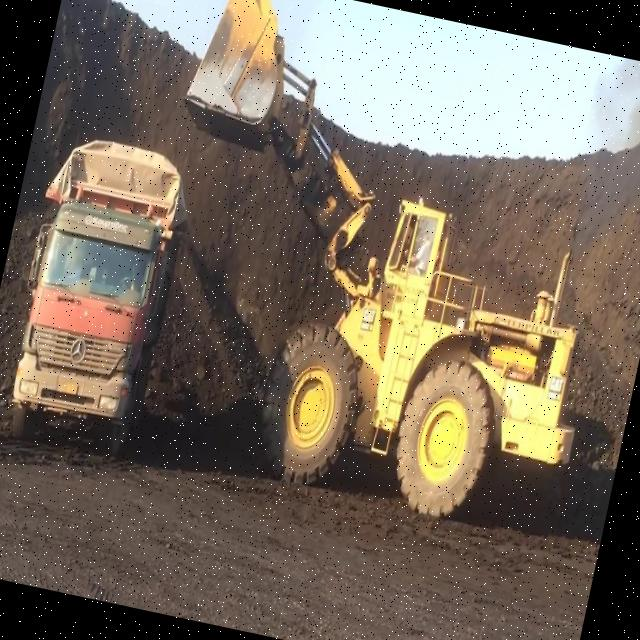Dump Truck: (0, 123, 199, 479)
Loader: (107, 0, 640, 553)
